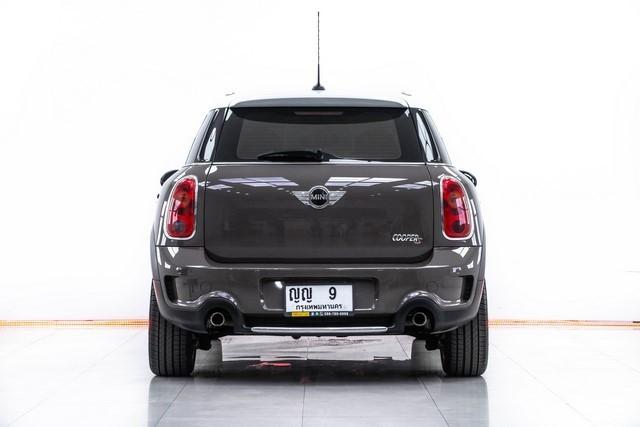license-plate: (280, 279, 356, 322)
